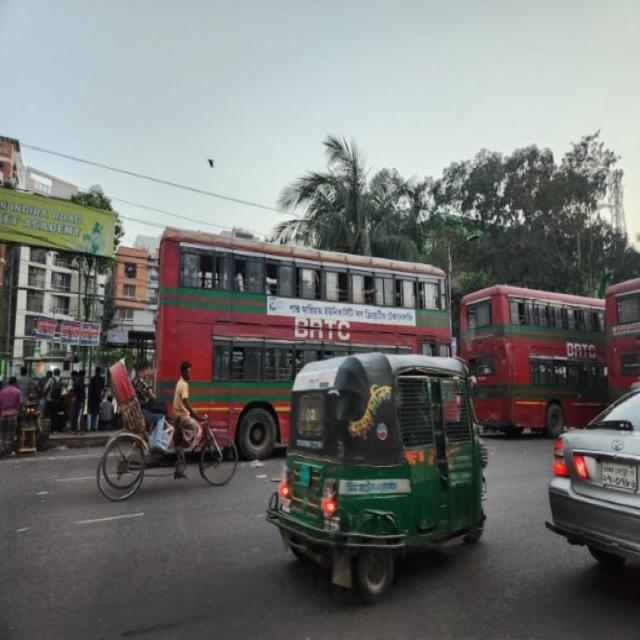CNG: (271, 341, 490, 603)
Double decker: (461, 287, 606, 431)
Rickshaw: (98, 358, 240, 507)
